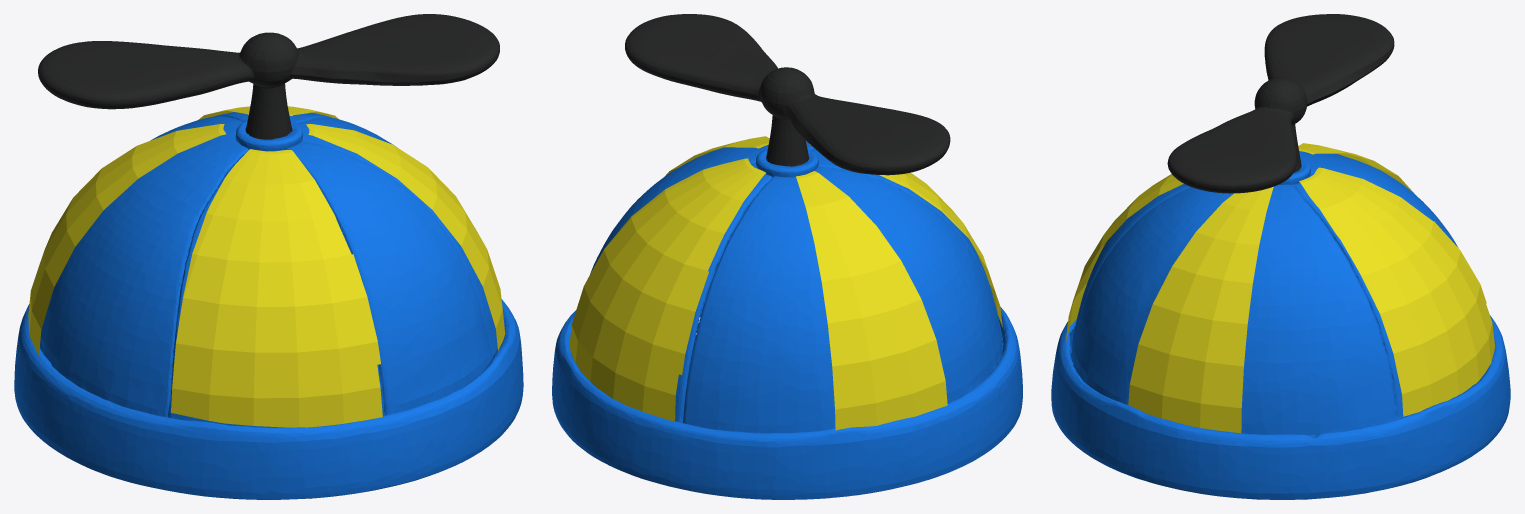
Rendered from spinhattex.glb.
3 renders of one model, left to right at view 1: azimuth 30°, elevation 25°; view 2: azimuth 150°, elevation 25°; view 3: azimuth 270°, elevation 25°, orthographic. The views are drawn at different scales.
Visible parts, largest first — view 1: hat, stripes, spin; view 2: hat, stripes, spin; view 3: hat, stripes, spin.
Part boxes in pixels (x1,y1,x2,y2): hat: (14,112,523,499); stripes: (28,106,505,427); spin: (38,14,499,139); hat: (552,140,1022,499); stripes: (569,136,1002,430); spin: (625,14,950,175); hat: (1051,151,1510,499); stripes: (1066,143,1494,433); spin: (1167,14,1394,193).
Bounding box in the file's own units: 0.9981 × 0.7808 × 0.9989.
